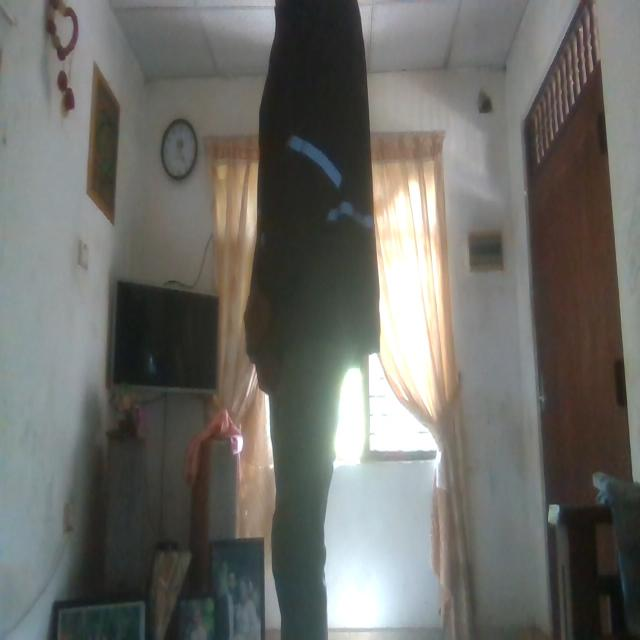Jacket_Wearer: (248, 0, 390, 380)
Person: (256, 0, 380, 640)
